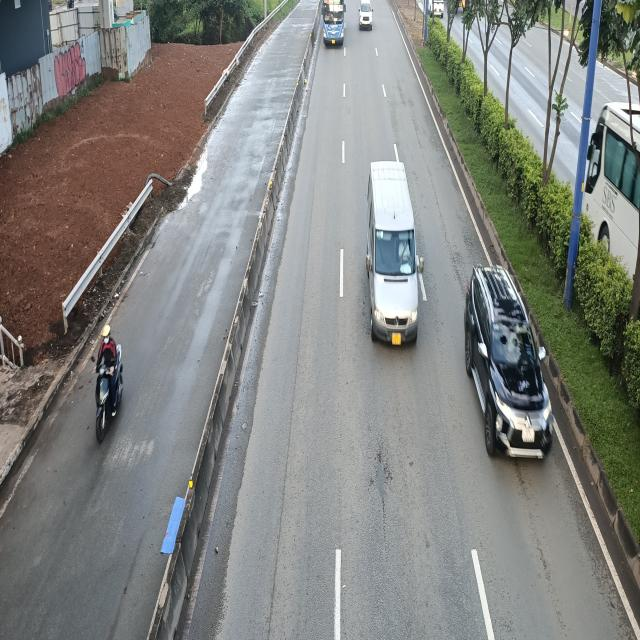car: (463, 265, 551, 461), (357, 0, 373, 29)
coach: (320, 0, 346, 45)
van: (368, 162, 426, 342)
